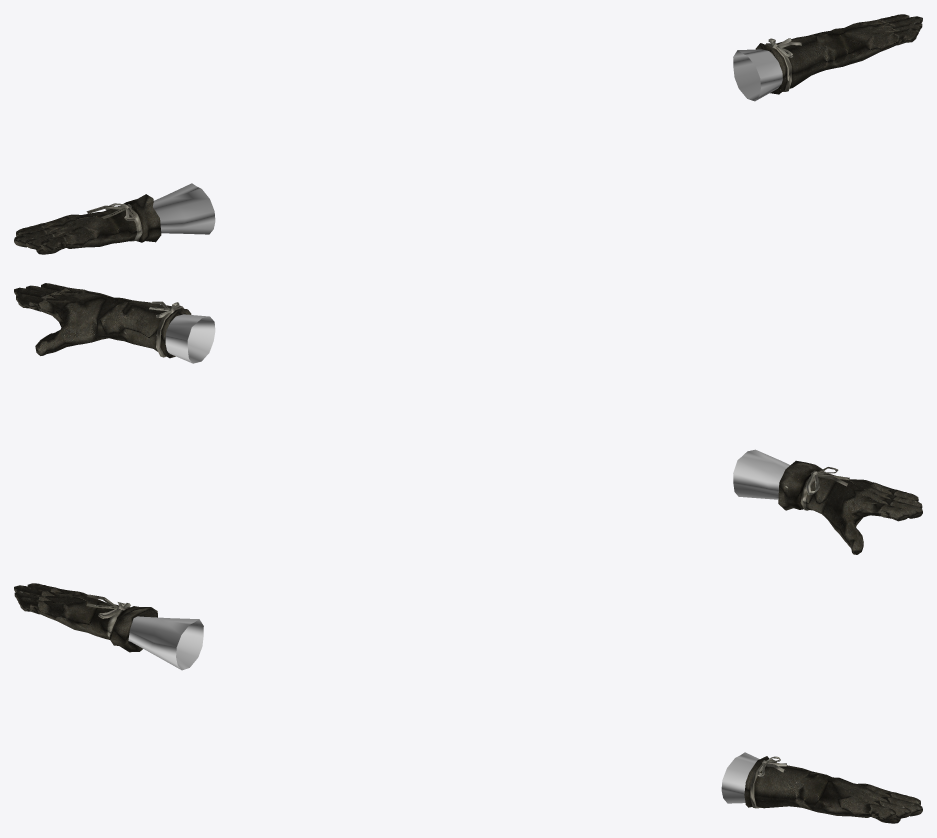
3 renders of one model, top to bottom at view 1: azimuth 30°, elevation 25°; view 2: azimuth 150°, elevation 25°; view 3: azimuth 330°, elevation 25°, orthographic.
Parts seen in each view (by area): view 1: mesh0, mesh2, mesh1; view 2: mesh0, mesh2, mesh1; view 3: mesh0, mesh2, mesh1.
Boxes of the visible parts, x1,y1,x2,y2 form: mesh0: (14, 14, 922, 254); mesh2: (153, 49, 782, 234); mesh1: (86, 38, 801, 221); mesh0: (14, 283, 922, 554); mesh2: (156, 314, 790, 499); mesh1: (149, 301, 849, 494); mesh0: (14, 583, 922, 823); mesh2: (128, 616, 759, 803); mesh1: (86, 594, 786, 776).
Size of the model in its own units: 173 by 10.24 by 13.87.
